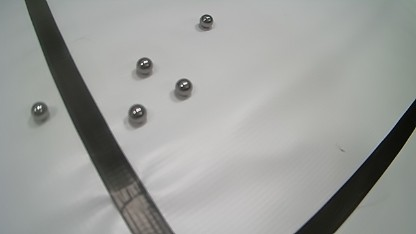ironball: (128, 104, 147, 124), (31, 102, 49, 121), (175, 78, 193, 96), (136, 57, 153, 75), (199, 14, 213, 28)
